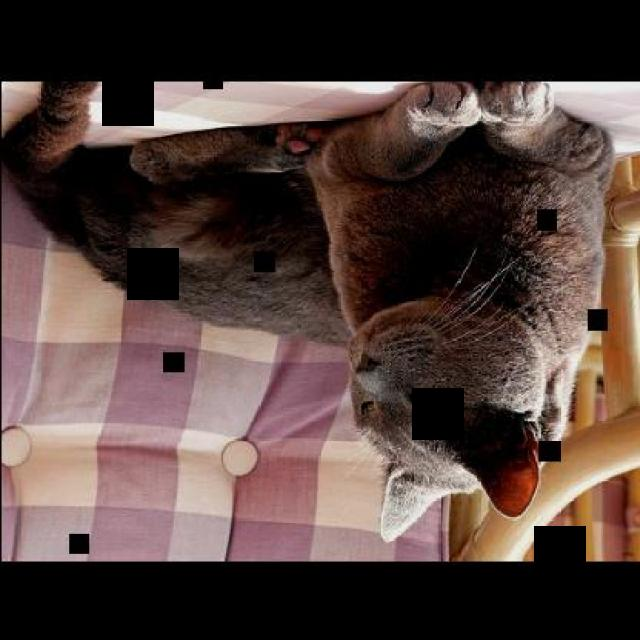unauthorized: (0, 76, 615, 541)
